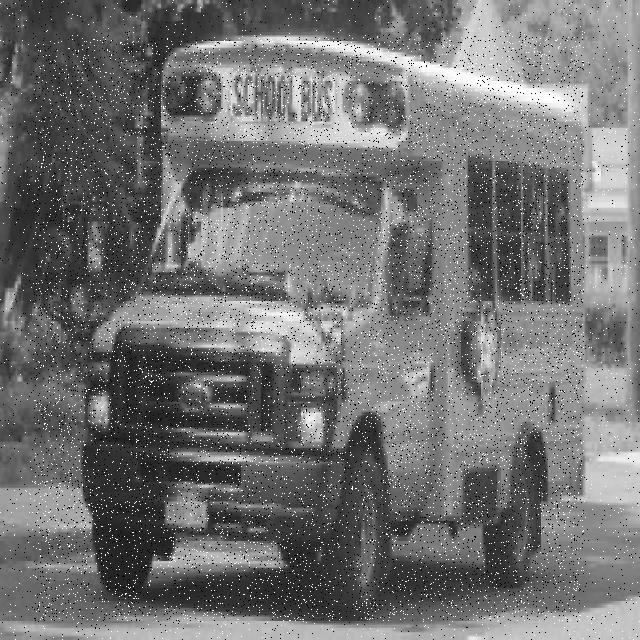Bus- Small: (34, 37, 584, 621)
